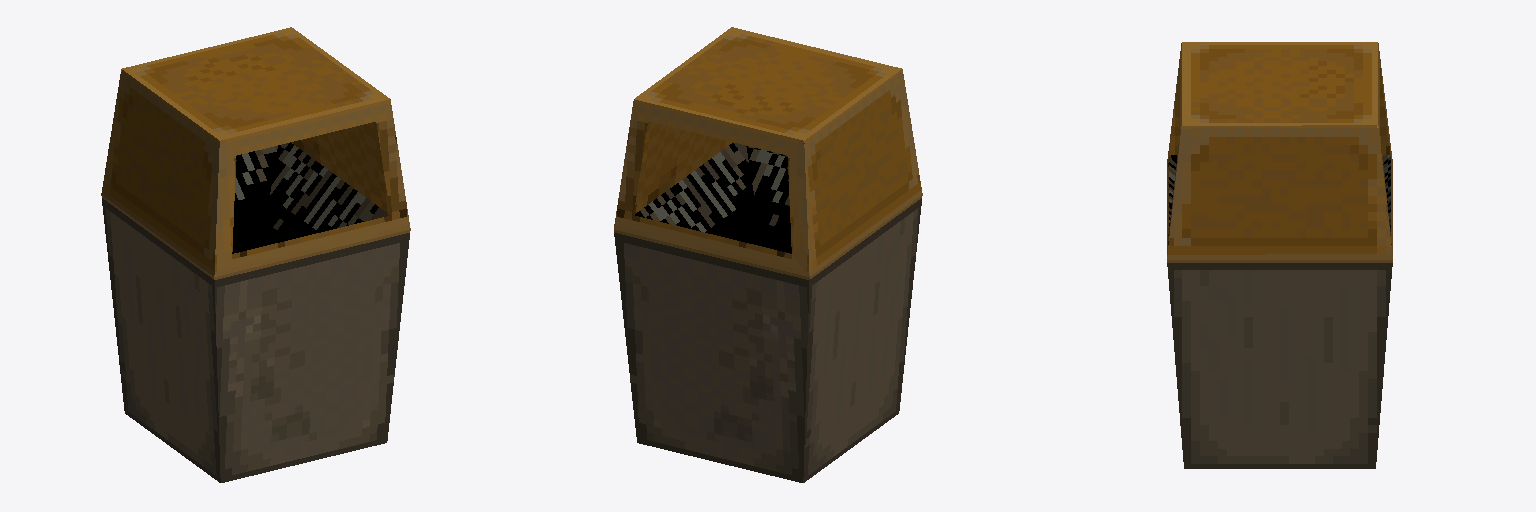
3 renders of one model, left to right at view 1: azimuth 30°, elevation 25°; view 2: azimuth 150°, elevation 25°; view 3: azimuth 270°, elevation 25°, orthographic.
Parts seen in each view (by area): view 1: Cube.007; view 2: Cube.007; view 3: Cube.007.
Boxes of the visible parts, box(x1,y1,x2,y2) form: Cube.007: box(101, 27, 410, 482); Cube.007: box(614, 27, 922, 482); Cube.007: box(1167, 42, 1392, 468).
Size of the model in its own units: 1 by 1.68 by 1.
Materials: 1 (1 with a texture image).